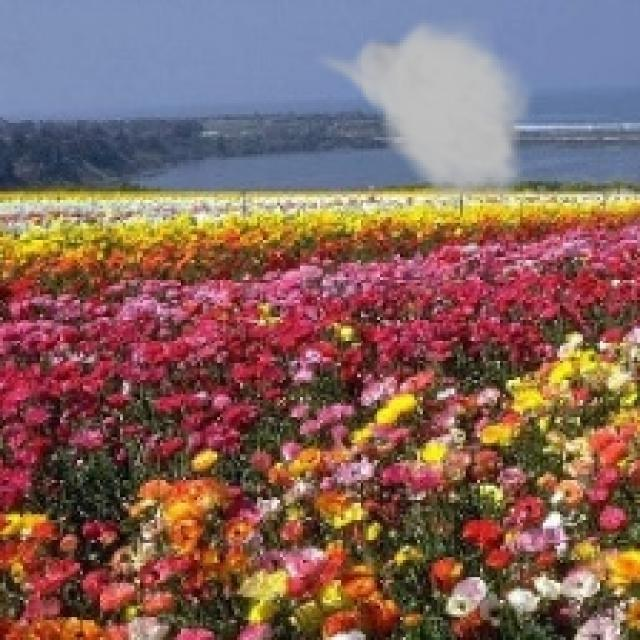Smoke: (312, 14, 534, 214)
